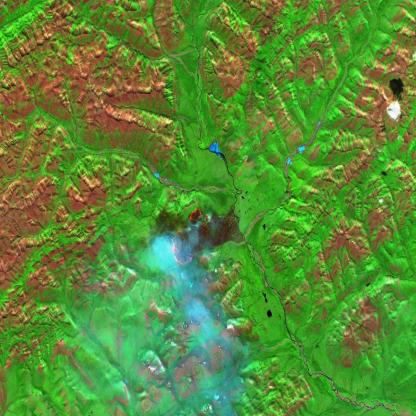fire: (168, 204, 212, 270)
